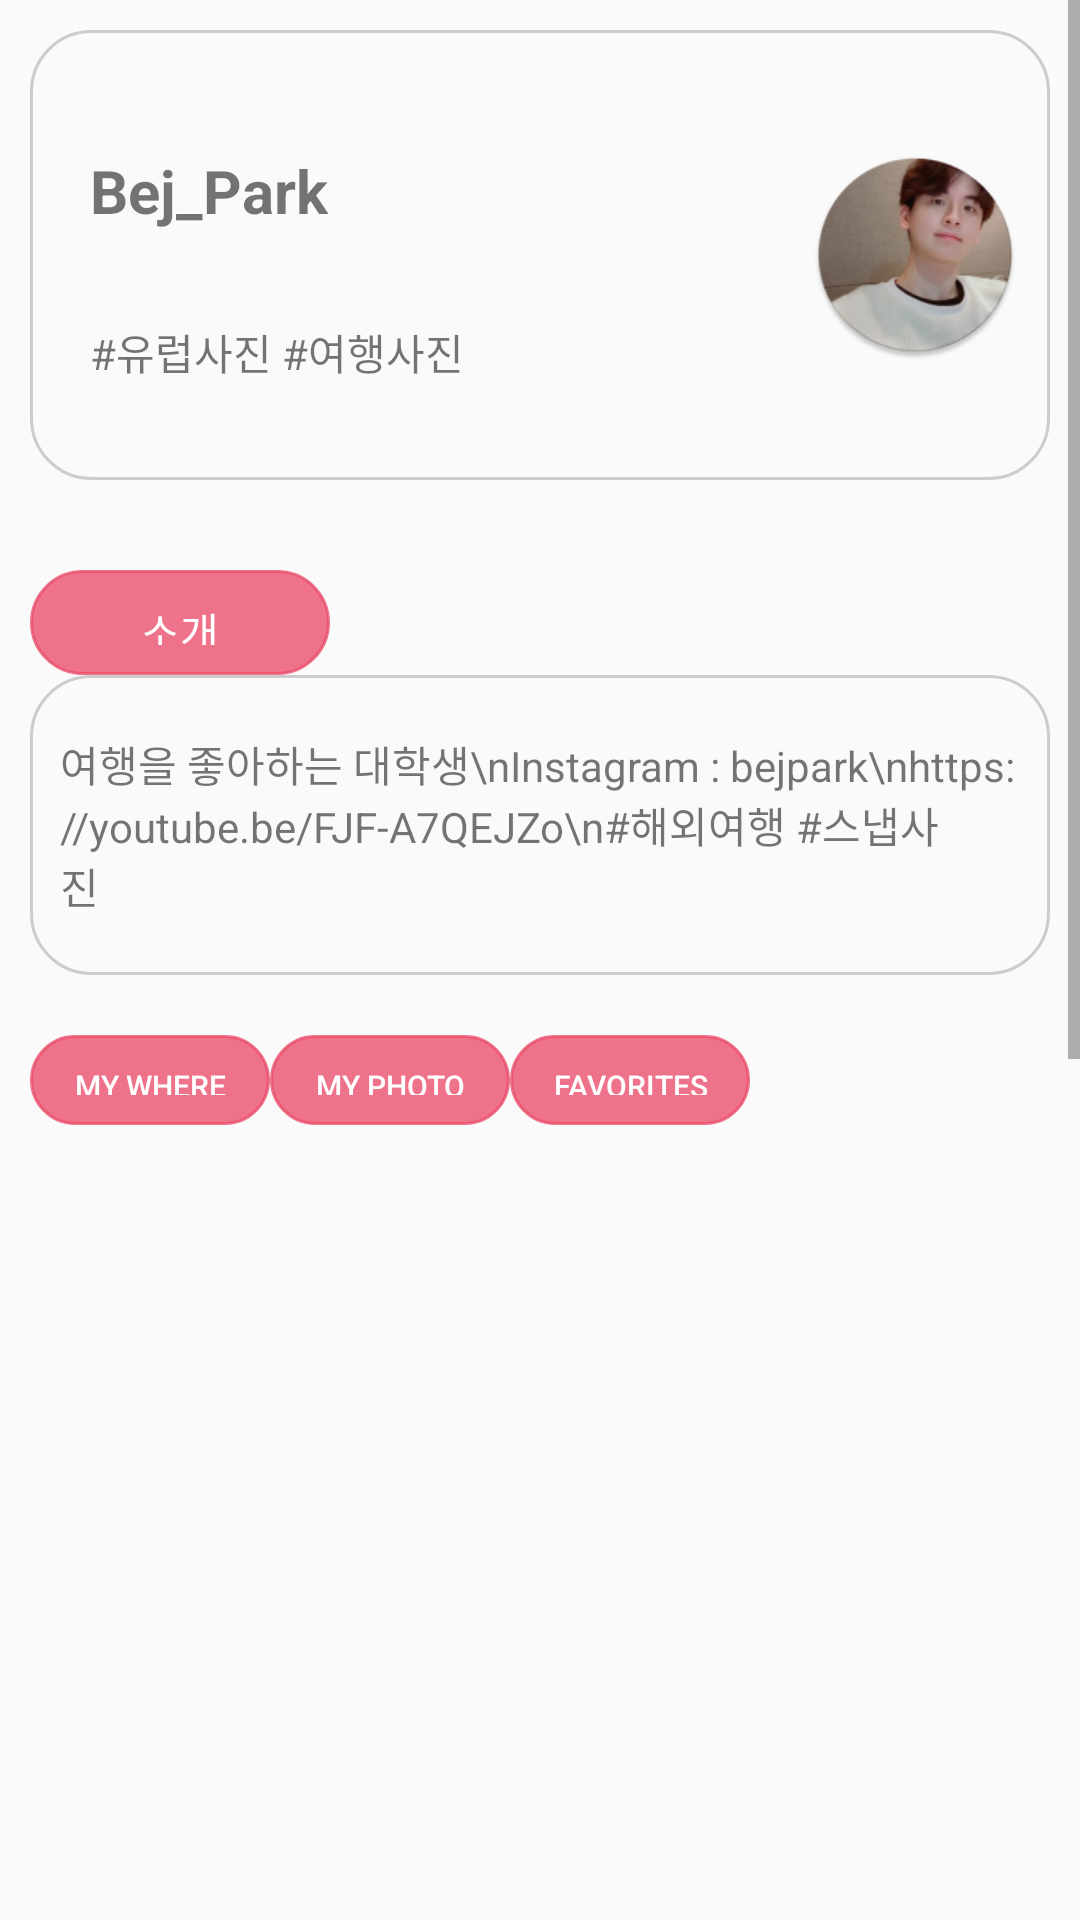

Locate icon controls on the screen. Image size 1080x1920, boxes as (x1, y1, x2, y2).
profile round: (817, 158, 1013, 356)
